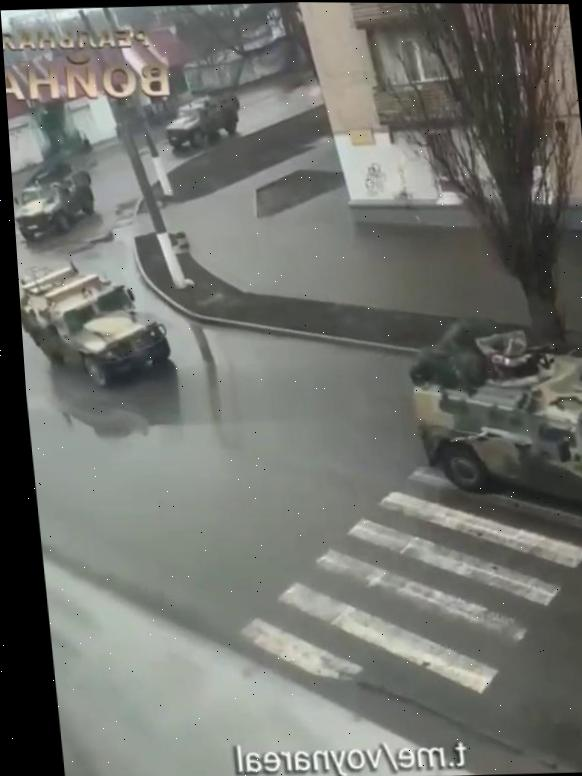armored_car: (398, 313, 582, 550), (17, 258, 173, 388), (11, 158, 100, 244), (158, 92, 245, 152)
